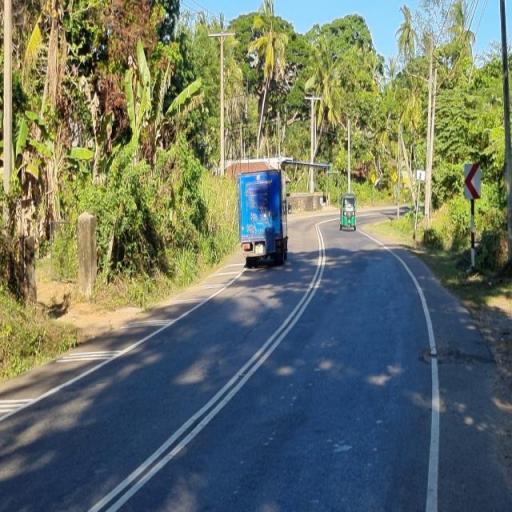double_white_line: (84, 218, 331, 512)
